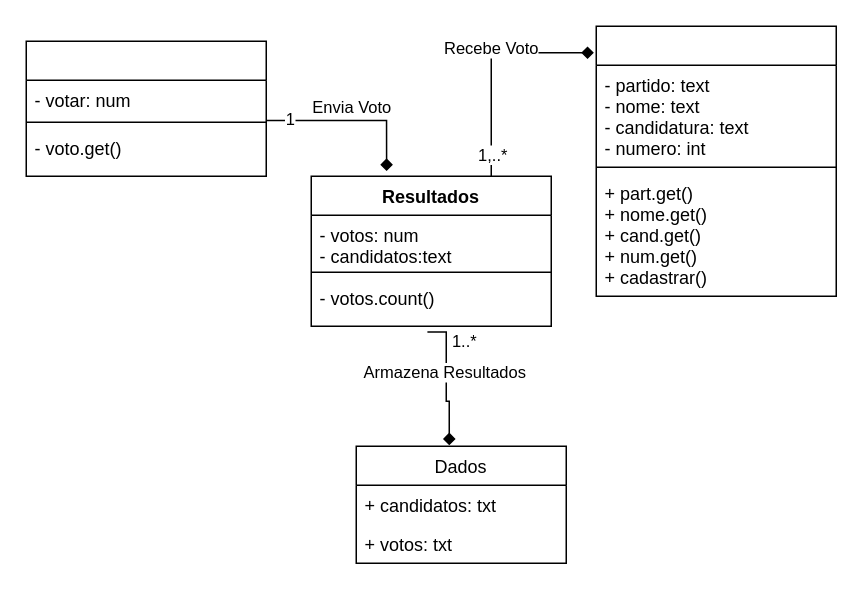
Some shapes in this 863 by 594 pixel diagram are drawn without their labels. Here are the shapes that lost their labels. From the top down, the box of each, then its label:
(25, 40, 266, 176): Votante
(595, 25, 836, 296): Candidatos
